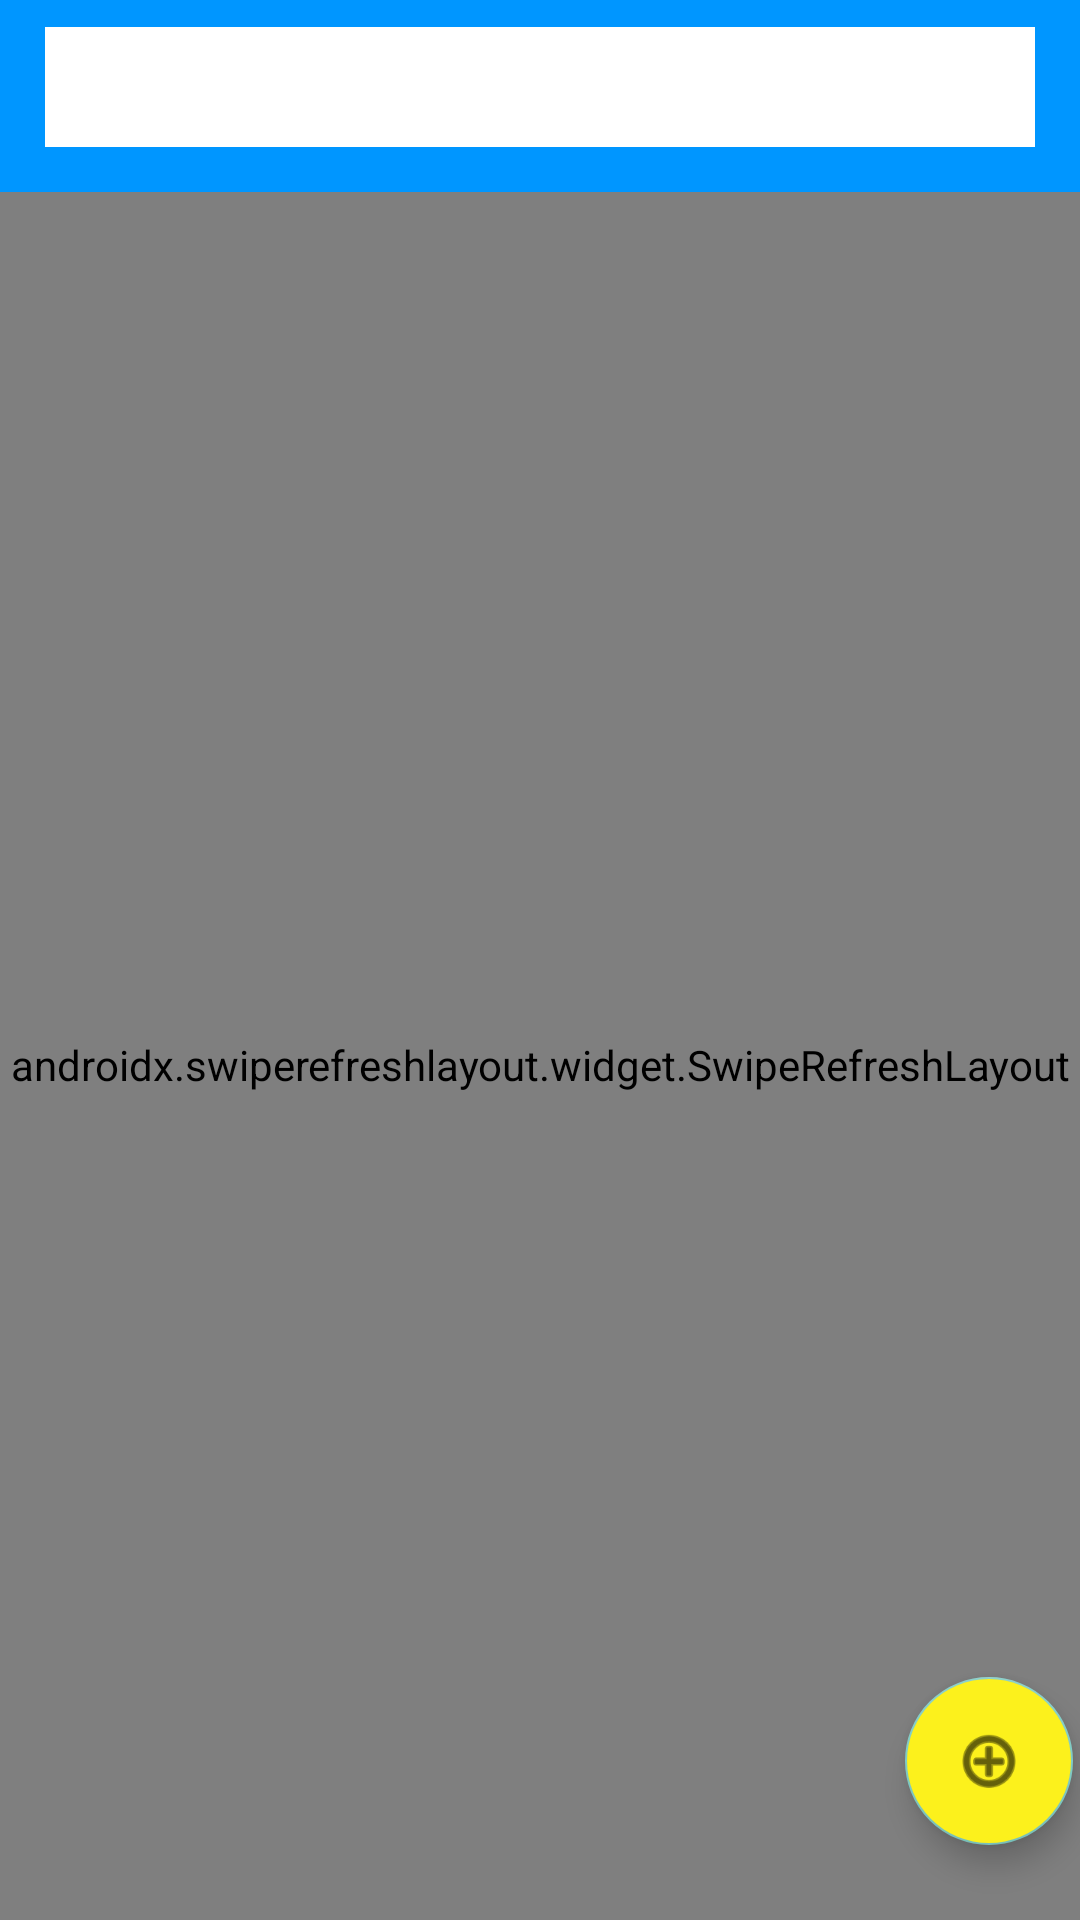

Icon bounding boxes for this 1080 x 1920 phone screenshot, format (x1, y1, x2, y2):
add: (905, 1677, 1073, 1845)
